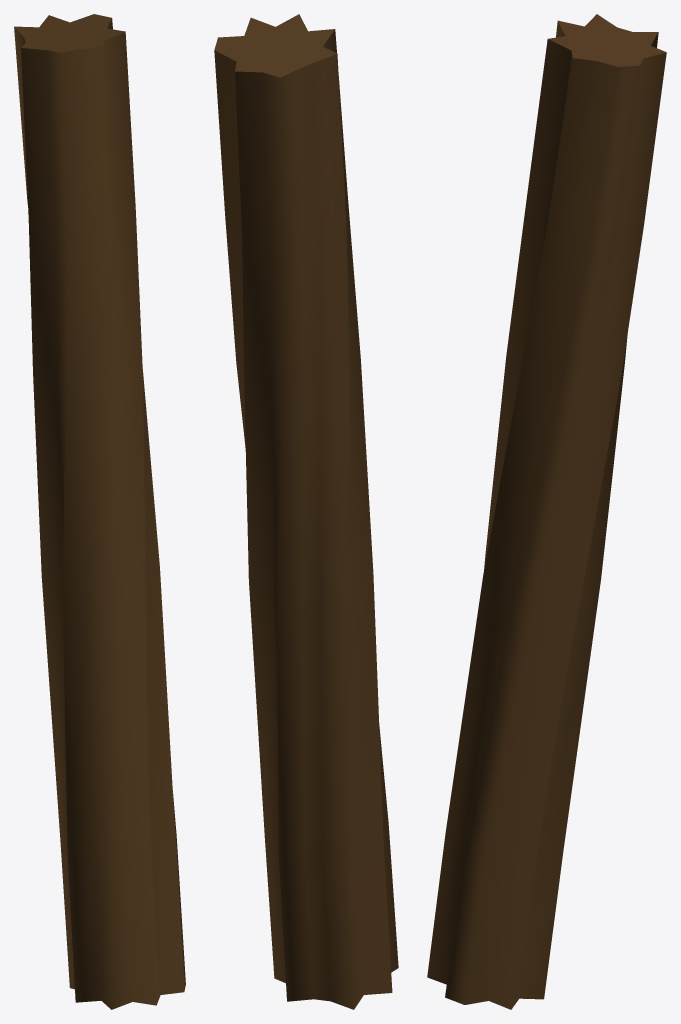
File: Mum.fbx
The picture shows the model from 3 angles, left to right: view 1: azimuth 30°, elevation 25°; view 2: azimuth 150°, elevation 25°; view 3: azimuth 270°, elevation 25°; orthographic projection. The views are drawn at different scales.
Parts seen in each view (by area): view 1: pCylinder5; view 2: pCylinder5; view 3: pCylinder5.
Boxes of the visible parts, <box> form: pCylinder5: <box>14,14,185,1009</box>; pCylinder5: <box>214,14,398,1009</box>; pCylinder5: <box>427,14,666,1009</box>.
Bounding box in the file's own units: 0.0634 × 0.5393 × 0.1228.
